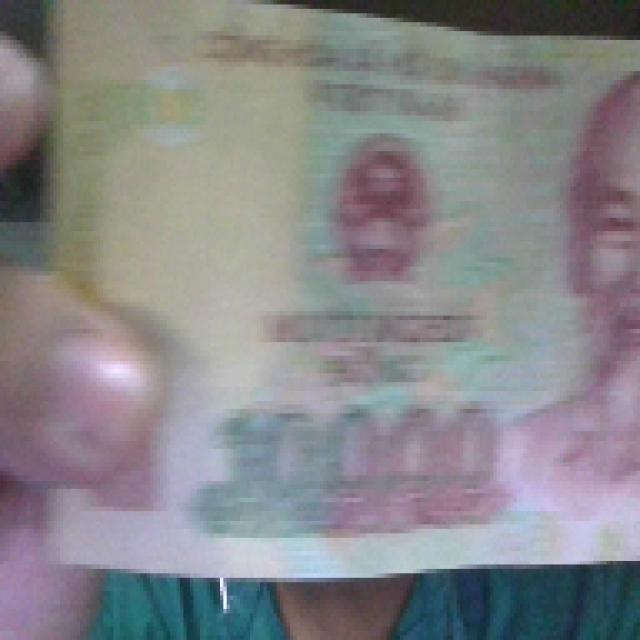10 000 VND: (40, 0, 636, 582)
